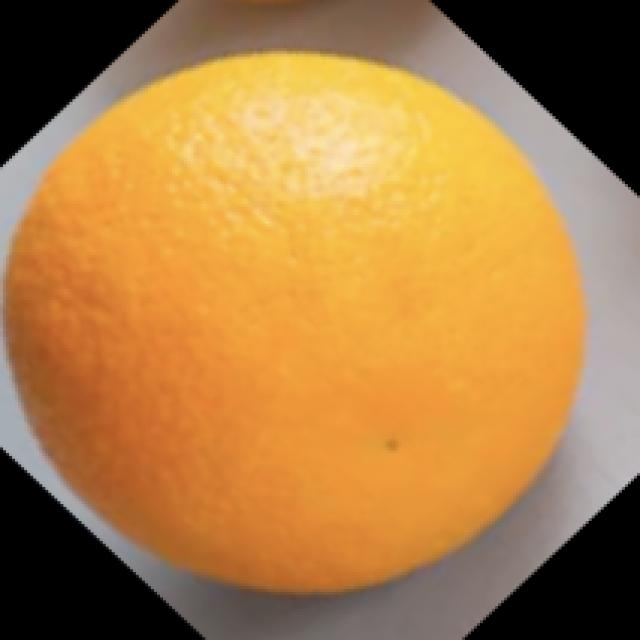fresh: (0, 36, 584, 599)
